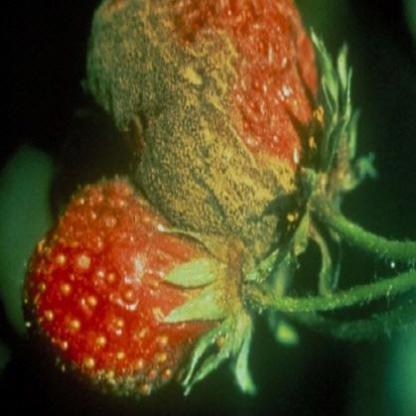Strawberry_Gray_Mold: (87, 0, 362, 282), (19, 174, 268, 399)
